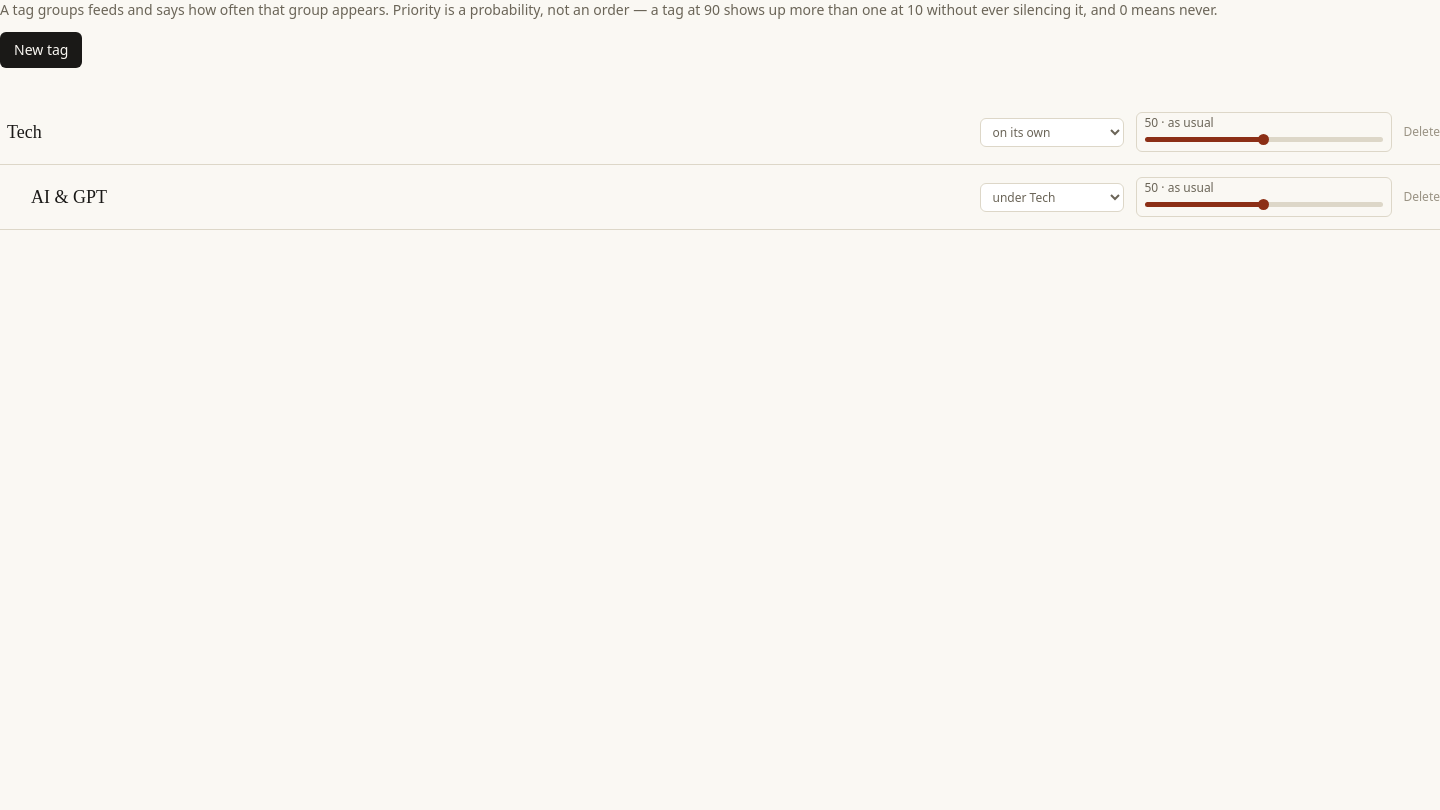
Test: TagsPage › asks before deleting, and writes nothing until it is answered
Click the 1st button "Delete".
click(1422, 132)  # box [1404, 124, 1439, 140]
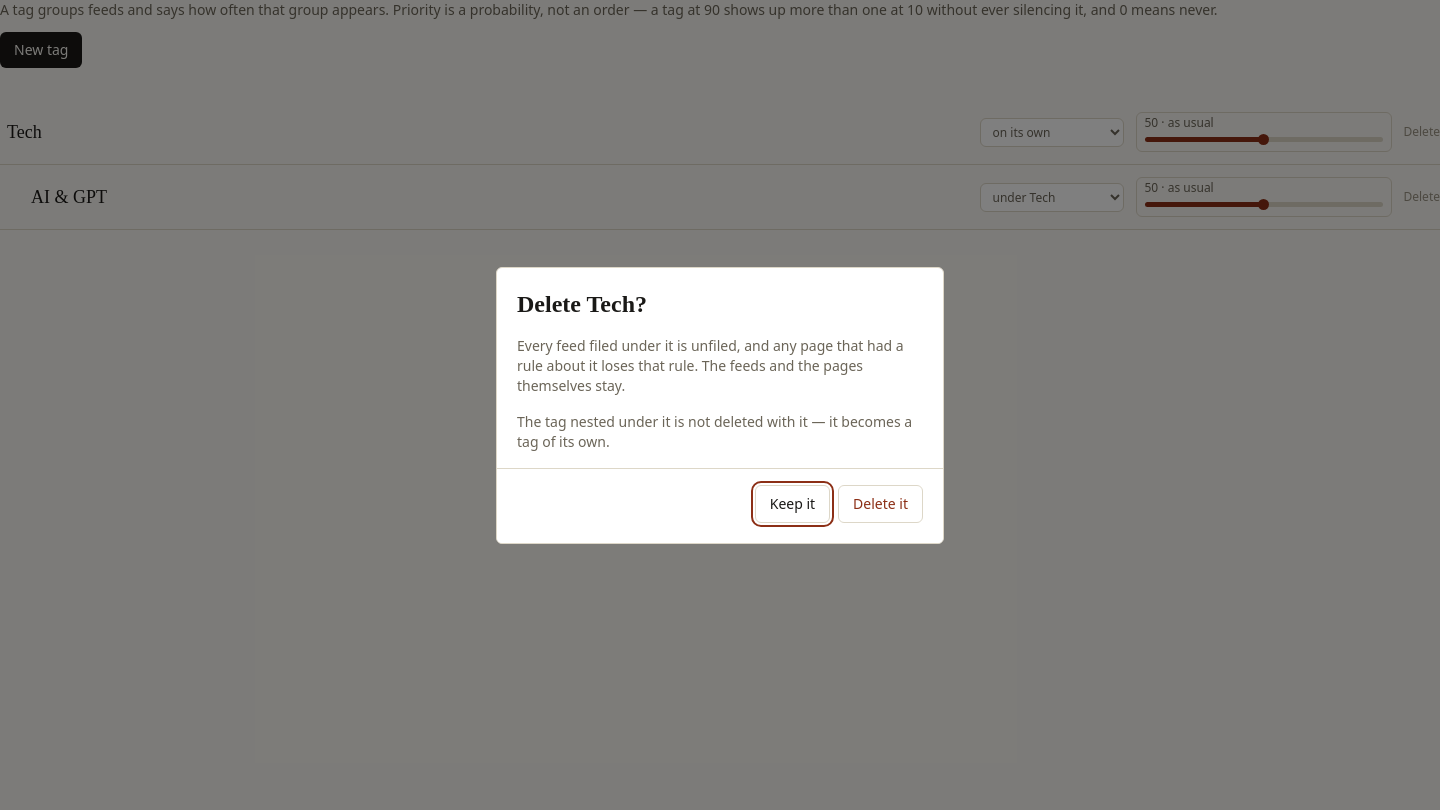
Now the heading "Delete Tech?" is shown, box [517, 290, 647, 316]
Click the button "Keep it".
click(792, 504)  # box [755, 484, 830, 522]
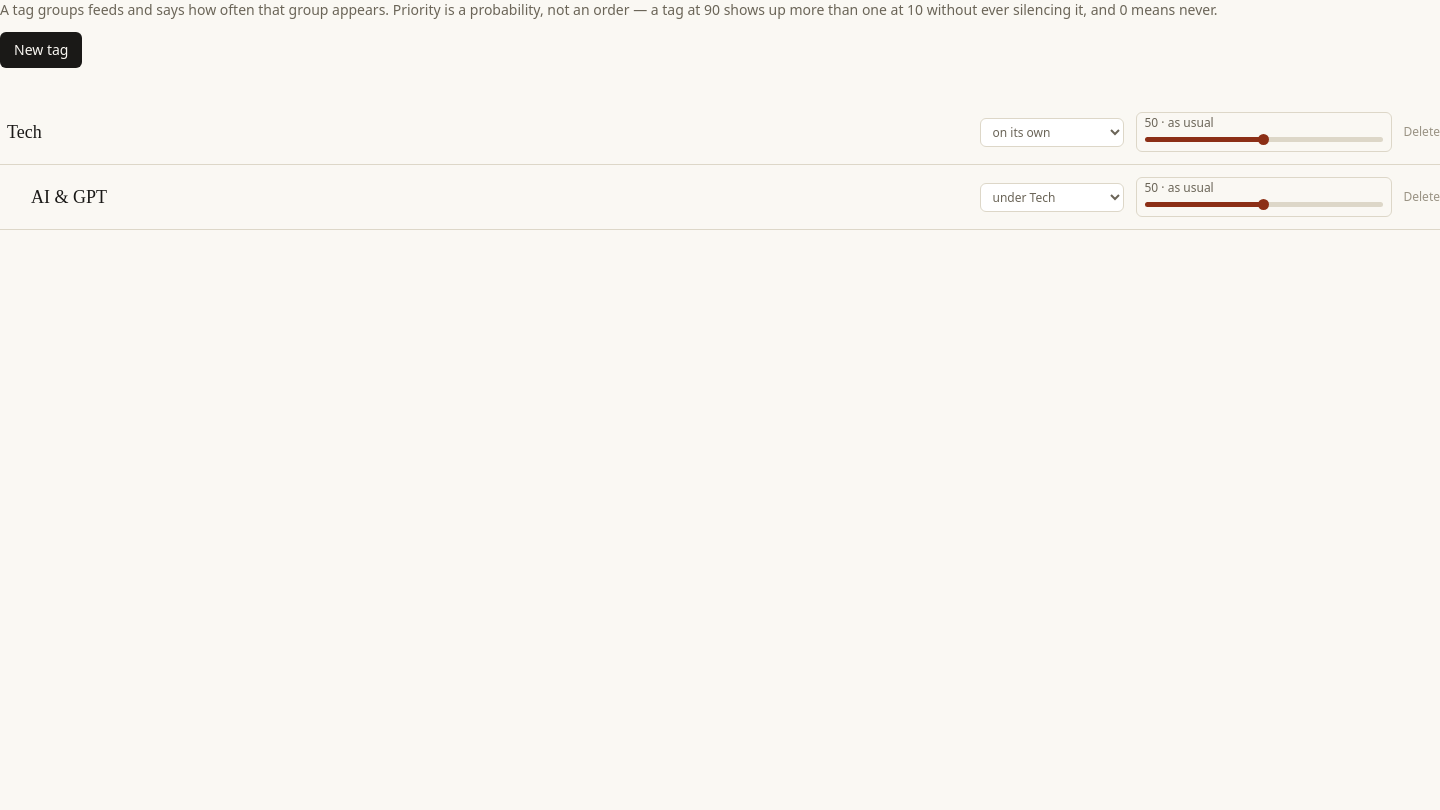
Now the heading "Delete Tech?" is gone
